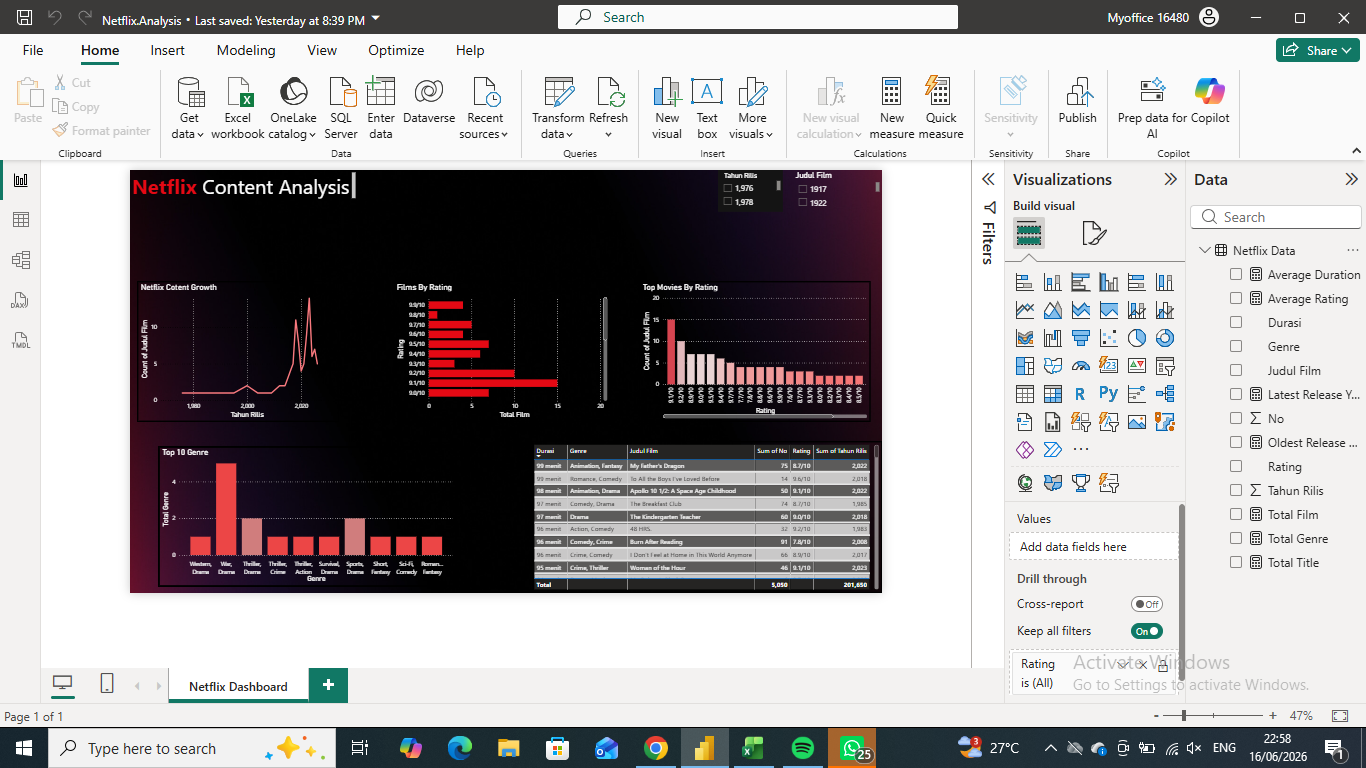

Layout of this report page (visuals, bound fields, positions):
{"tool":"powerbi","page":{"name":"Netflix Dashboard","canvas":[1600,900],"ordinal":0},"visuals":[{"type":"tableEx","fields":{"Values":["Netflix Data.Durasi","Netflix Data.Genre","Netflix Data.Judul Film","Sum(Netflix Data.No)","Netflix Data.Rating","Sum(Netflix Data.Tahun Rilis)"]},"box":[850,576.1,750,323.9],"z":0},{"type":"columnChart","title":"Top 10 Genre","fields":{"Category":["Netflix Data.Genre"],"Y":["Netflix Data.Total Genre"]},"box":[59.6,587.2,636.2,300],"z":1000},{"type":"lineChart","title":"Netflix Cotent Growth","fields":{"Category":["Netflix Data.Tahun Rilis"],"Y":["CountNonNull(Netflix Data.Judul Film)"]},"box":[14.9,236.2,429.8,300],"z":2000},{"type":"clusteredBarChart","title":"Films By Rating","fields":{"Category":["Netflix Data.Rating"],"Y":["Netflix Data.Total Film"]},"box":[559.6,236.2,463.8,300],"z":3000},{"type":"slicer","title":"Judul Film","fields":{"Values":["Netflix Data.Judul Film"]},"box":[1410.6,0,189.4,89.4],"z":4000},{"type":"clusteredColumnChart","title":"Top Movies By Rating","fields":{"Y":["CountNonNull(Netflix Data.Judul Film)"],"Category":["Netflix Data.Rating"]},"box":[1082.6,237,493.5,300],"z":5000},{"type":"textbox","box":[0,0,485.1,66],"z":6000},{"type":"slicer","fields":{"Values":["Netflix Data.Tahun Rilis"]},"box":[1251.1,0,138.3,89.4],"z":7000}]}

Visuals, with their boxes on the page's 1600x900 design canvas (x1, y1, x2, y2). These are canvas units, not pixel positions in the 1366x768 screenshot, which may show the page scaled, cropped or inside an application window:
tableEx - Netflix Data.Durasi x Netflix Data.Genre: region(850, 576, 1600, 900)
"Top 10 Genre" columnChart: region(60, 587, 696, 887)
"Netflix Cotent Growth" lineChart: region(15, 236, 445, 536)
"Films By Rating" clusteredBarChart: region(560, 236, 1023, 536)
"Judul Film" slicer: region(1411, 0, 1600, 89)
"Top Movies By Rating" clusteredColumnChart: region(1083, 237, 1576, 537)
textbox: region(0, 0, 485, 66)
slicer - Netflix Data.Tahun Rilis: region(1251, 0, 1389, 89)
